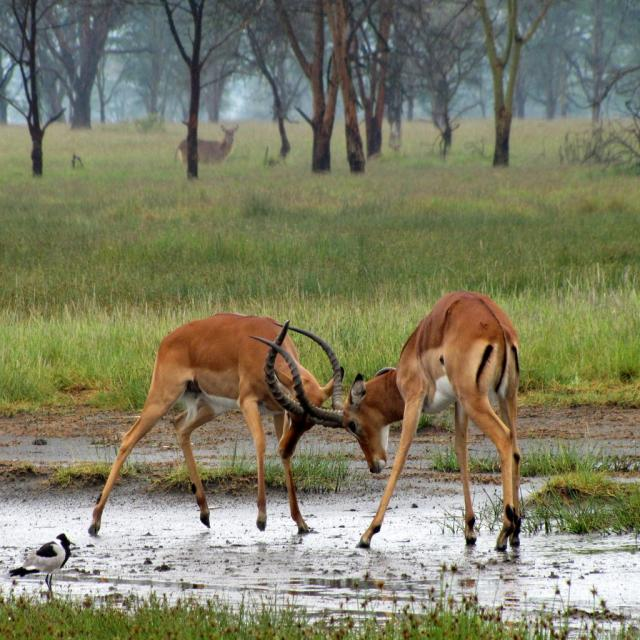Deer: (247, 290, 521, 551), (88, 312, 344, 536), (174, 124, 240, 166)
